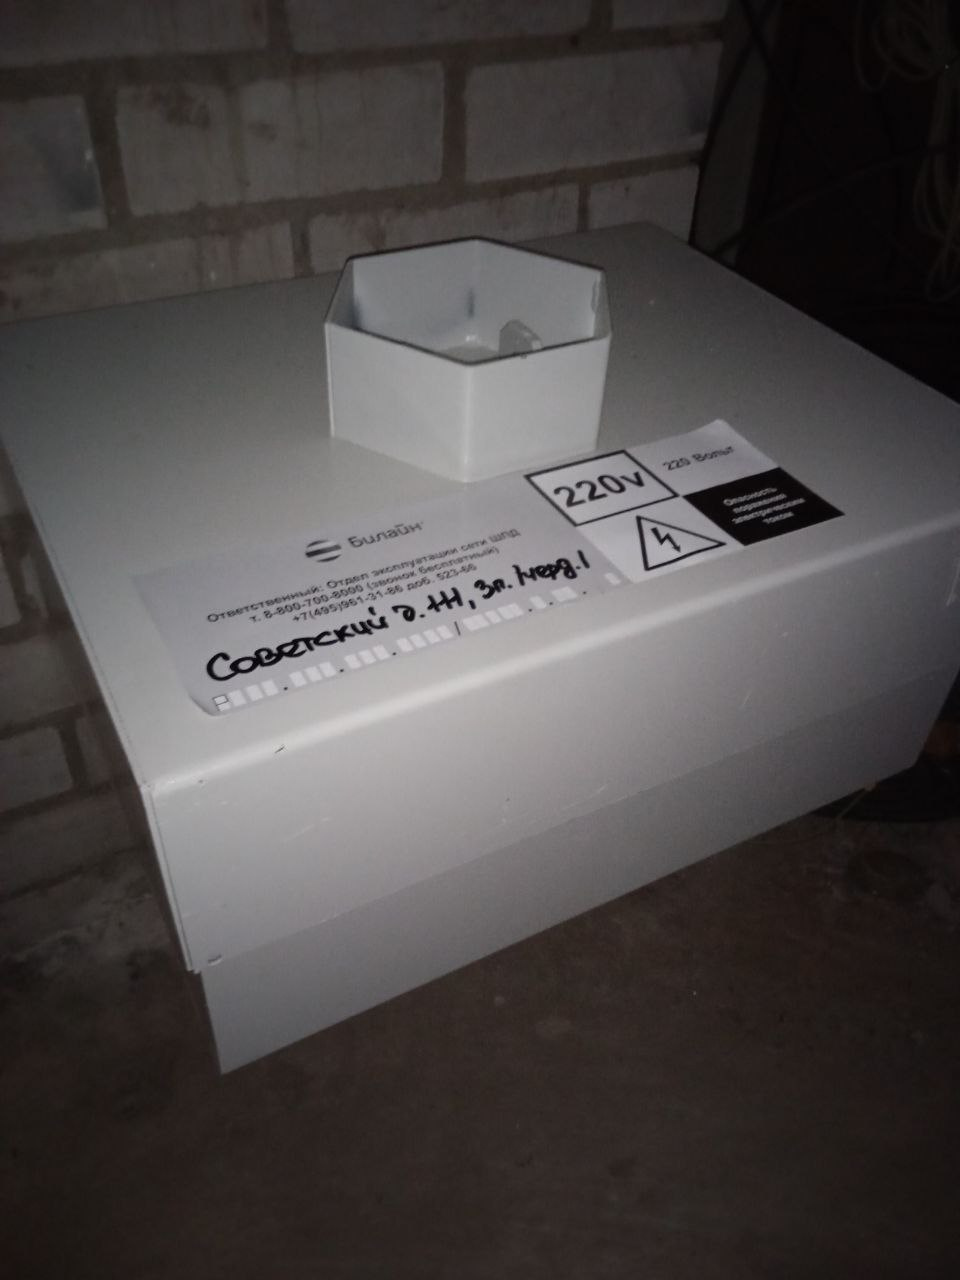shta-ps: (1, 208, 956, 1080)
